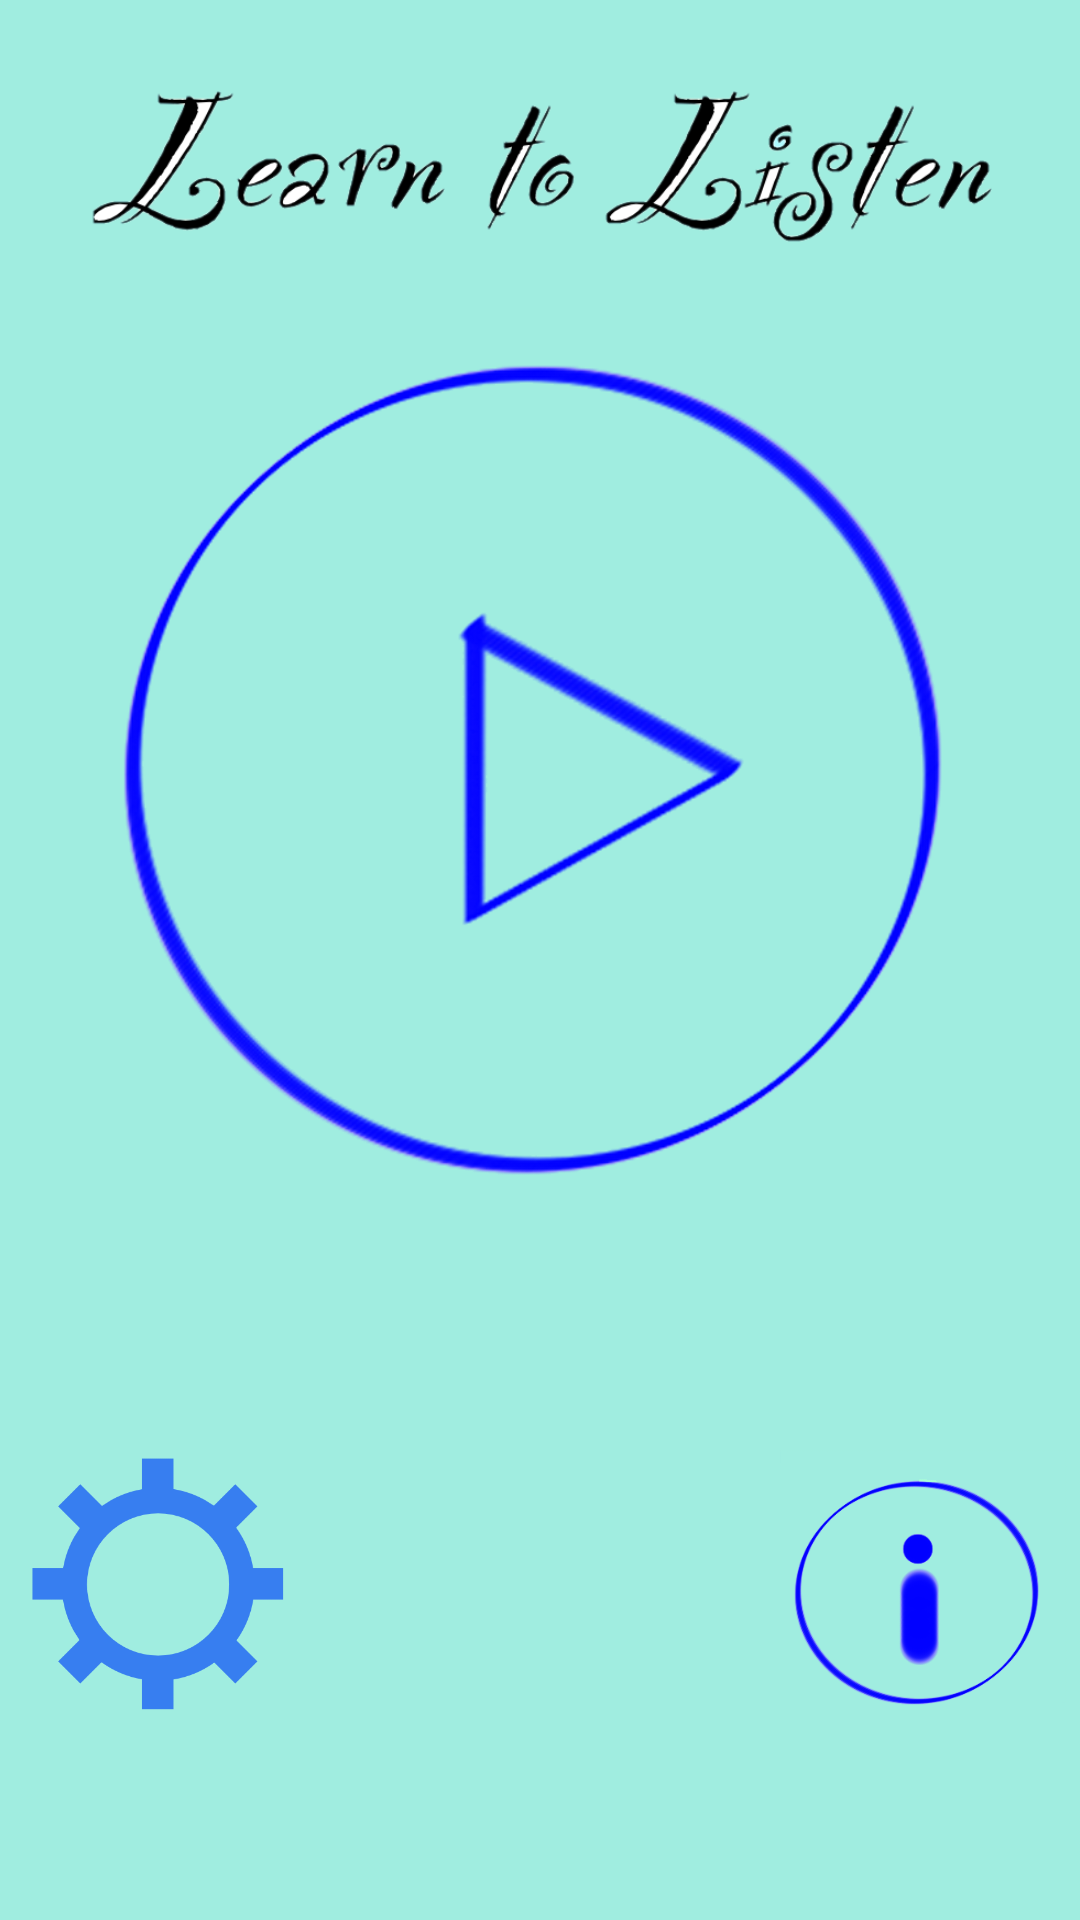

Named icons in this screenshot (1080*1920) and their bounding boxes, BBox(x1, y1, x2, y2):
info: BBox(795, 1481, 1039, 1705)
settings: BBox(32, 1458, 283, 1709)
